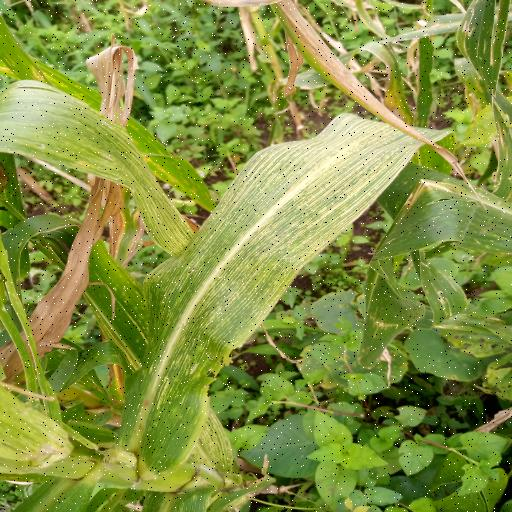Corn_Streak: (112, 114, 436, 458)
